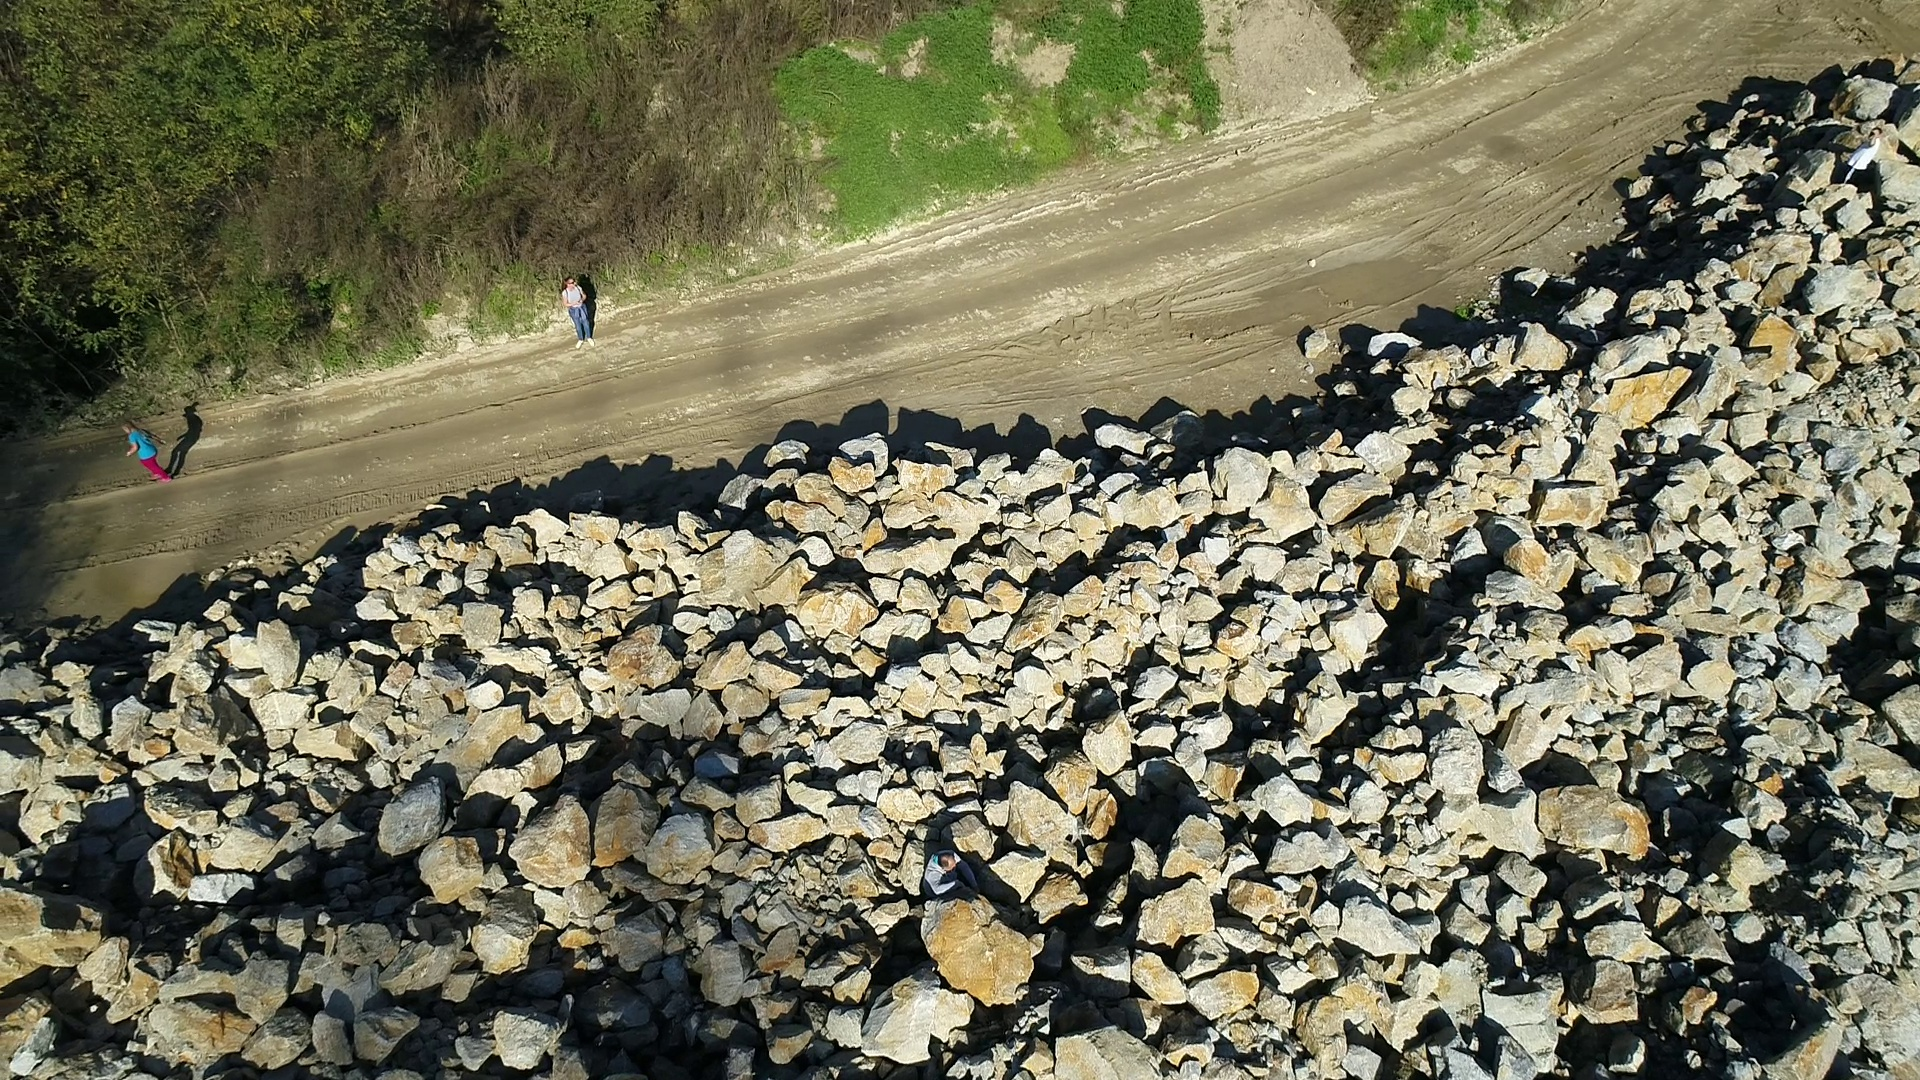person: (119, 419, 170, 483), (923, 850, 979, 896), (1841, 126, 1883, 185), (561, 277, 595, 348)
